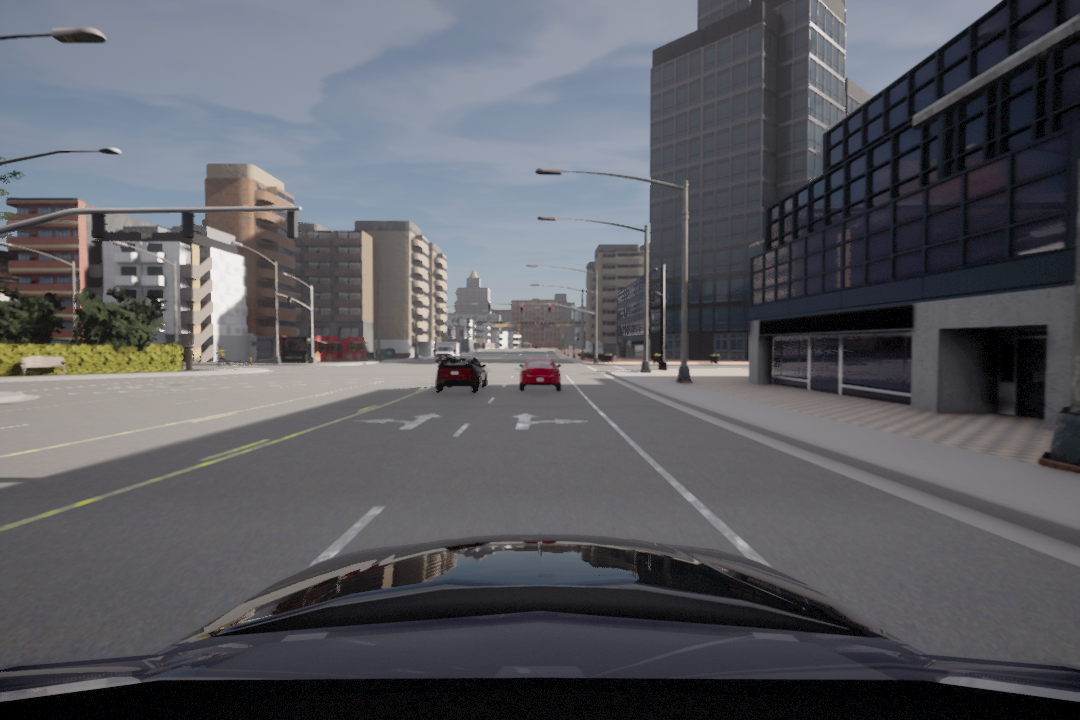RoadSign_forward_left: (357, 411, 444, 435)
RoadSign_forward_right: (499, 411, 593, 434)
